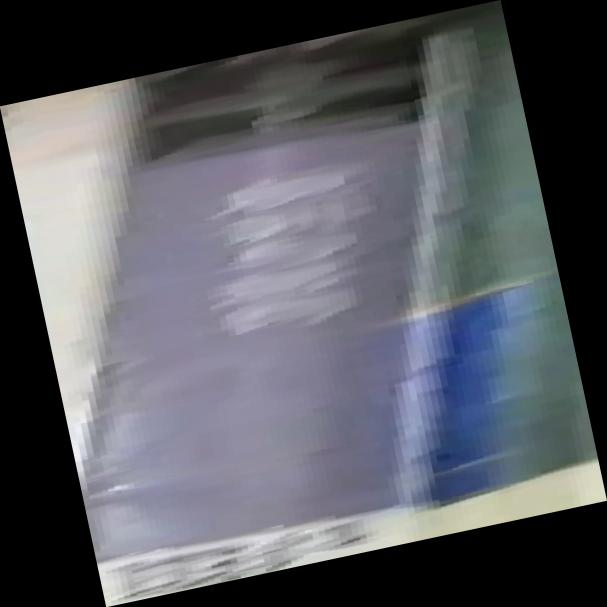book: (1, 1, 607, 607)
